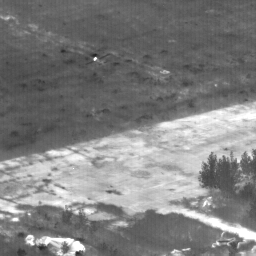aircraft: (94, 58, 96, 60)
